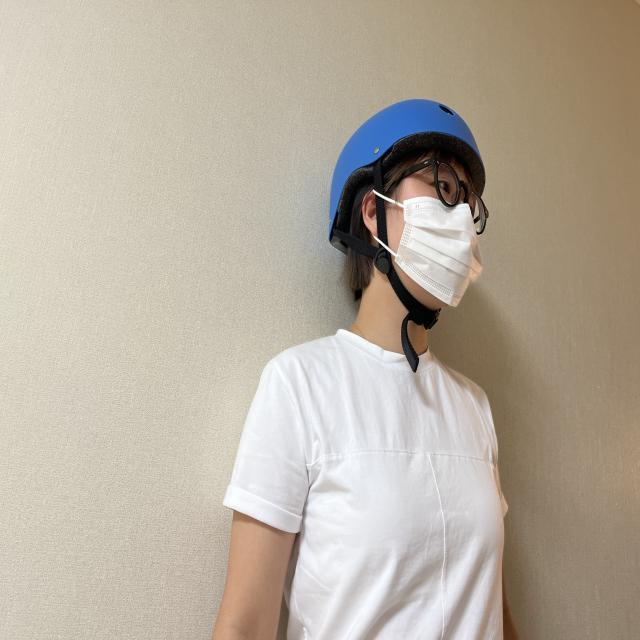Helmet: (324, 96, 493, 322)
